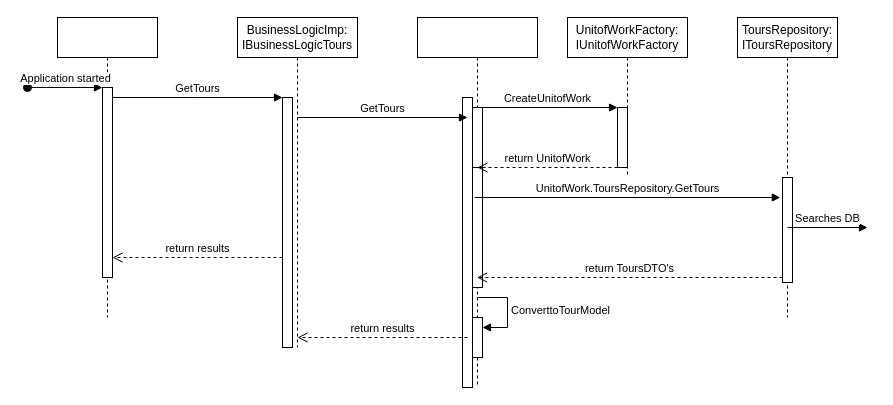
Image size: 893x405. Some labels were removed from this diagram. Each missing label, with the box of its shape:
GetToursService: IGetToursService: (416, 16, 538, 388)
tourstore: TourStore: (56, 16, 158, 318)
